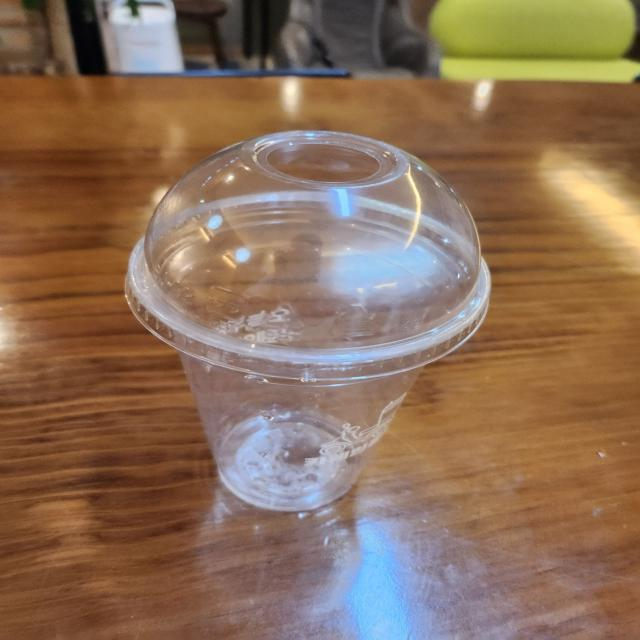plastic_cup_lid: (119, 113, 494, 387)
